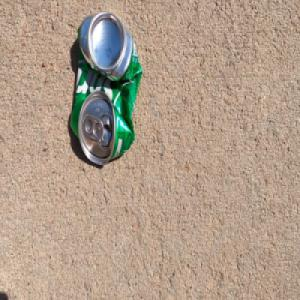SodaCan: (69, 10, 142, 167)
